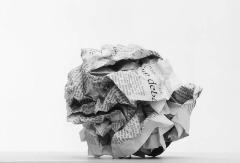paper: (64, 43, 202, 159)
